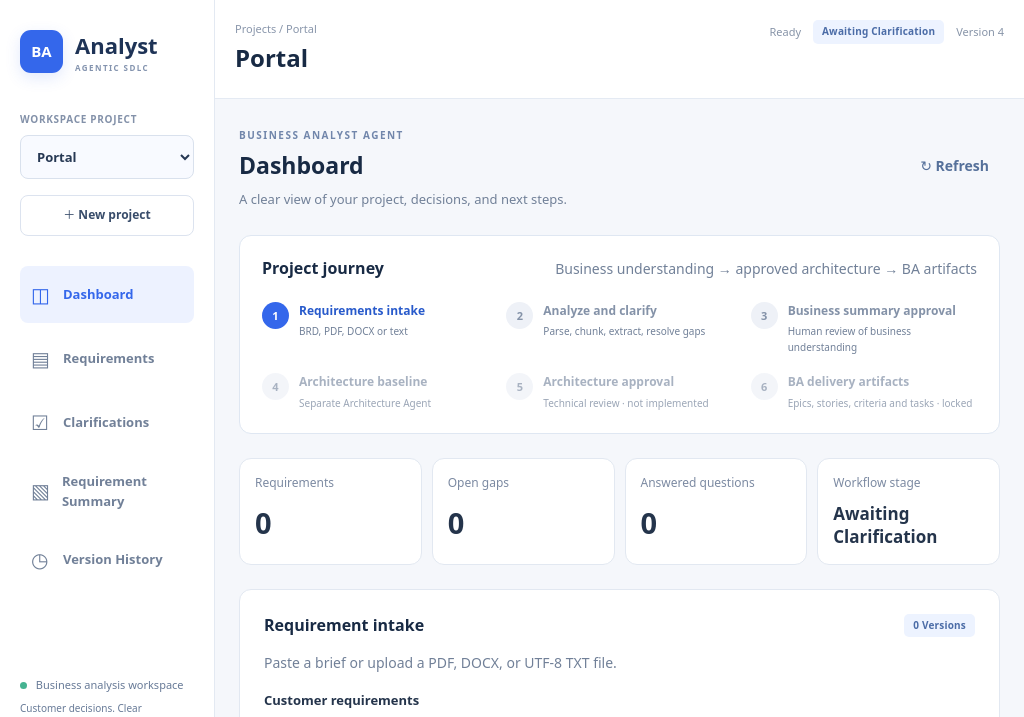
Test: keeps summary export disabled while blocking questions remain
This screenshot has width=1024, height=717.
Expected: the heading "Portal" is shown, [235,42,317,73]
Click the button "▧ Requirement Summary".
click(107, 491)  # box [20,458,194,524]
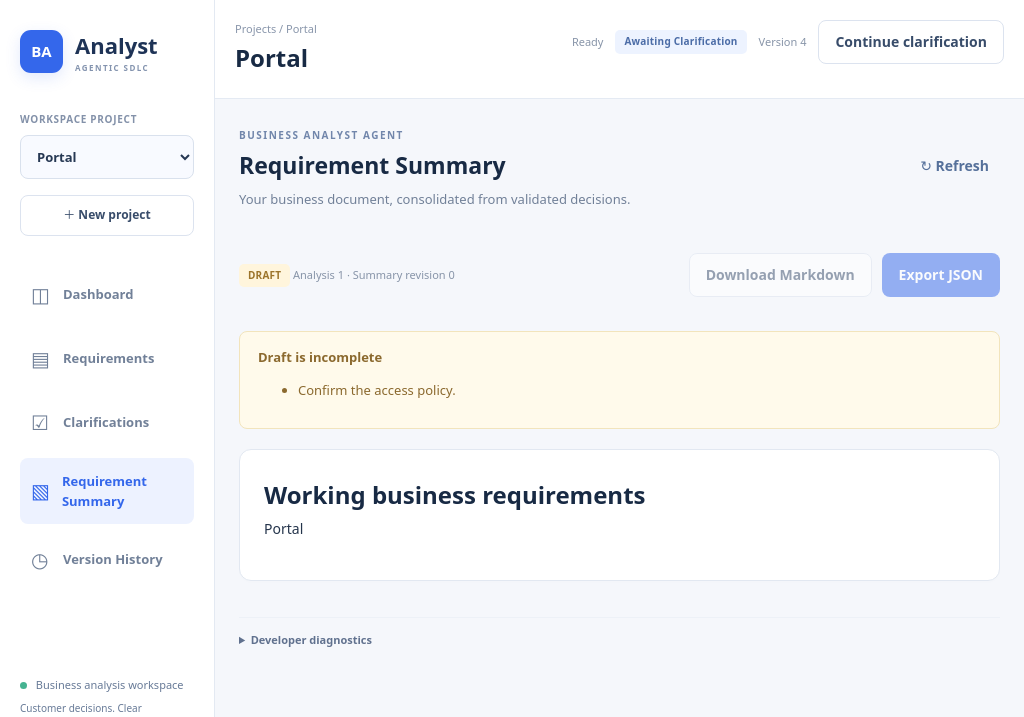
Expected: the button "Export JSON" is disabled, [882,253,1000,297]
Expected: the text "Draft is incomplete" is shown, [258,348,382,366]
